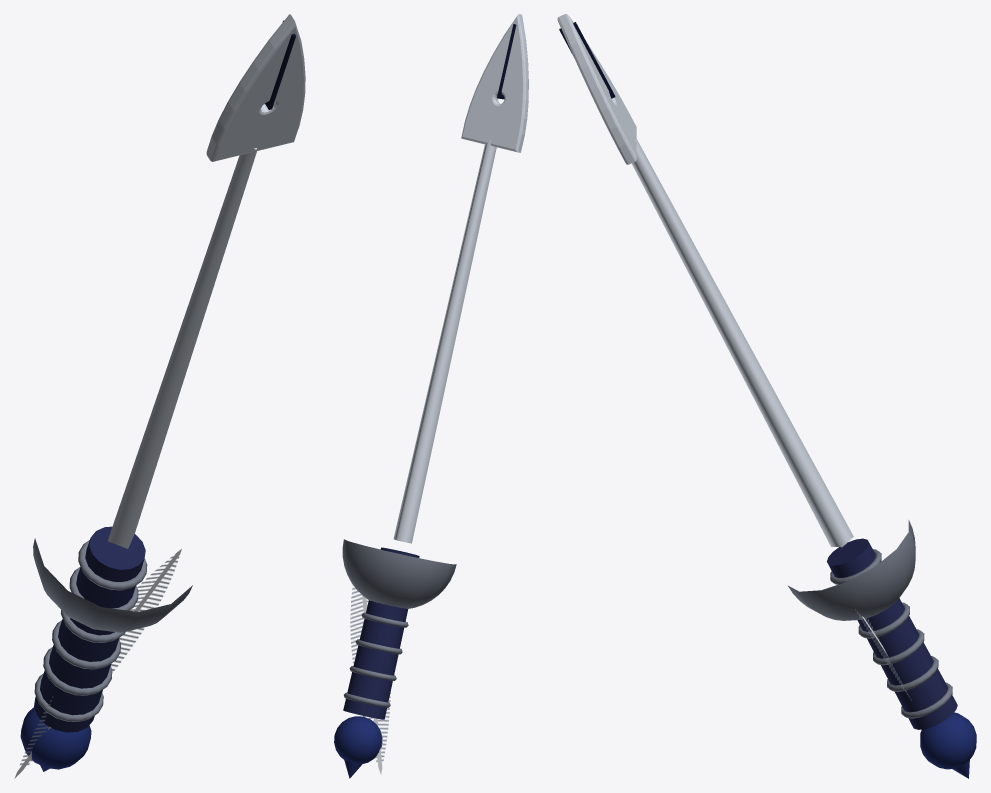
Rendered from hand_eqen0.glb.
3 renders of one model, left to right at view 1: azimuth 30°, elevation 25°; view 2: azimuth 150°, elevation 25°; view 3: azimuth 270°, elevation 25°, orthographic. The views are drawn at different scales.
Bounding box in the file's own units: 0.741 × 4.53 × 2.25.
7 materials, 1 textured.
